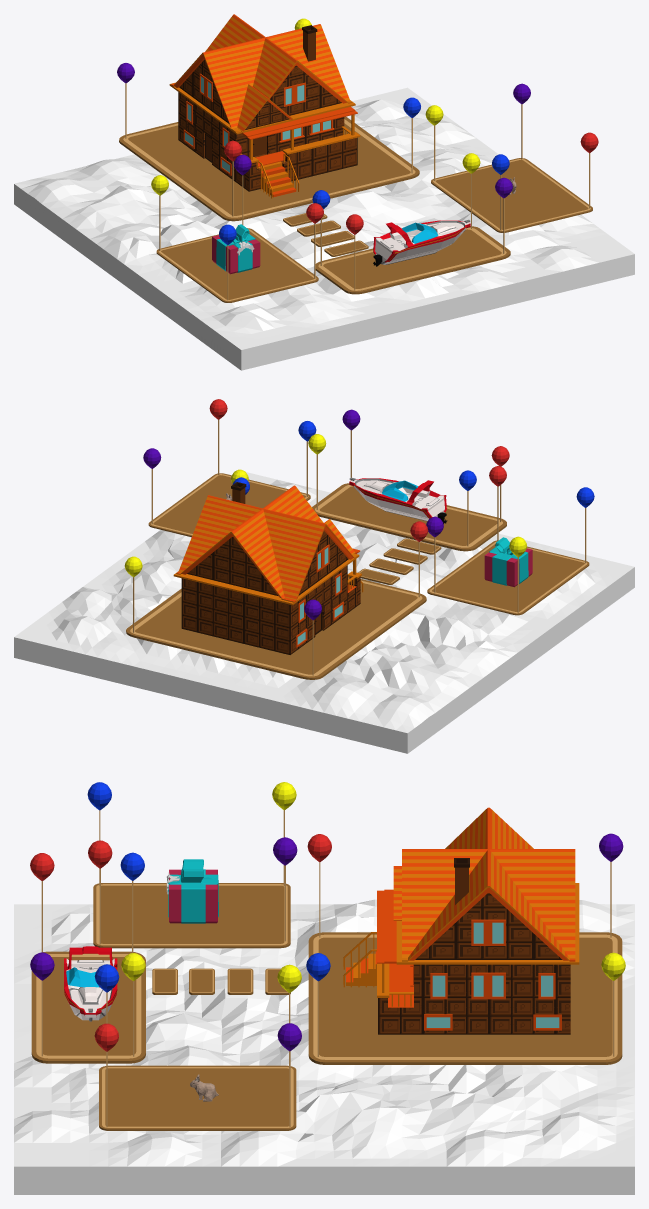
The picture shows the model from 3 angles, top to bottom: view 1: azimuth 30°, elevation 25°; view 2: azimuth 150°, elevation 25°; view 3: azimuth 270°, elevation 25°; orthographic projection. The views are drawn at different scales.
Visible parts, largest first — view 1: Cube.013, Cube, VEHICLES_BOAT, OBJRANDOM_GIANT_PRESENT; view 2: Cube.013, Cube, VEHICLES_BOAT, OBJRANDOM_GIANT_PRESENT; view 3: Cube.013, Cube, OBJRANDOM_GIANT_PRESENT, VEHICLES_BOAT.
Boxes of the visible parts, bbox=[...] form: Cube.013: bbox=[14, 18, 634, 370]; Cube: bbox=[169, 14, 360, 198]; VEHICLES_BOAT: bbox=[373, 219, 470, 266]; OBJRANDOM_GIANT_PRESENT: bbox=[212, 224, 260, 274]; Cube.013: bbox=[14, 399, 634, 753]; Cube: bbox=[173, 482, 363, 654]; VEHICLES_BOAT: bbox=[349, 477, 447, 523]; OBJRANDOM_GIANT_PRESENT: bbox=[484, 537, 532, 587]; Cube.013: bbox=[14, 782, 634, 1194]; Cube: bbox=[343, 807, 579, 1034]; OBJRANDOM_GIANT_PRESENT: bbox=[166, 859, 218, 923]; VEHICLES_BOAT: bbox=[64, 946, 117, 1021].
Size of the model in its own units: 4000 by 1789 by 4000.
30 materials, 2 textured.
